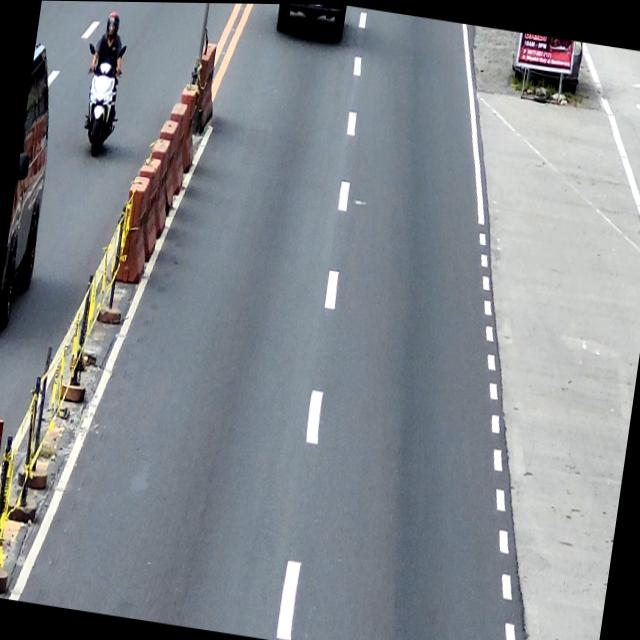Car: (0, 43, 66, 331), (274, 3, 348, 41)
Motorcycle: (75, 40, 126, 157)
